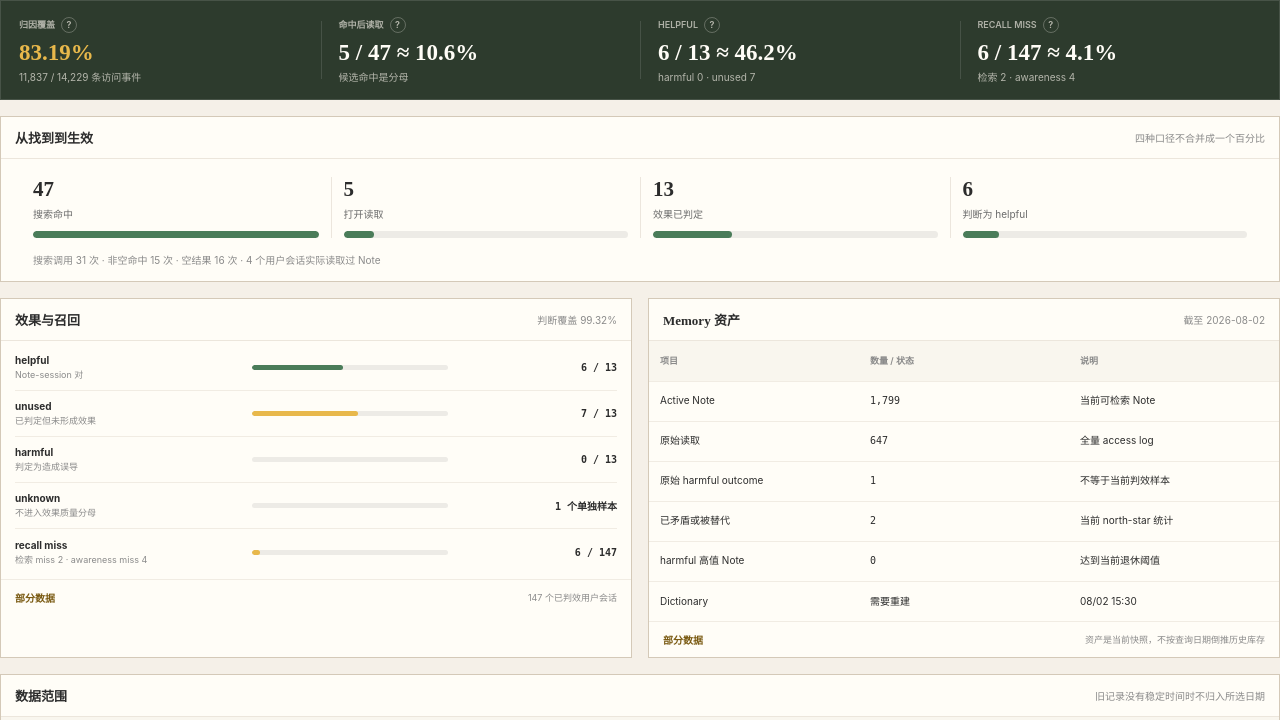
Test: renders the four facts, funnel, effects, assets and sources
Expected: the text "归因覆盖" is shown, 19,18 -> 55,31
Expected: the text "5 / 47 ≈ 10.6%" is shown, 338,40 -> 478,64
Step 1. Click the button named "解释命中后读取" → (398, 24), box 390,16 -> 406,32
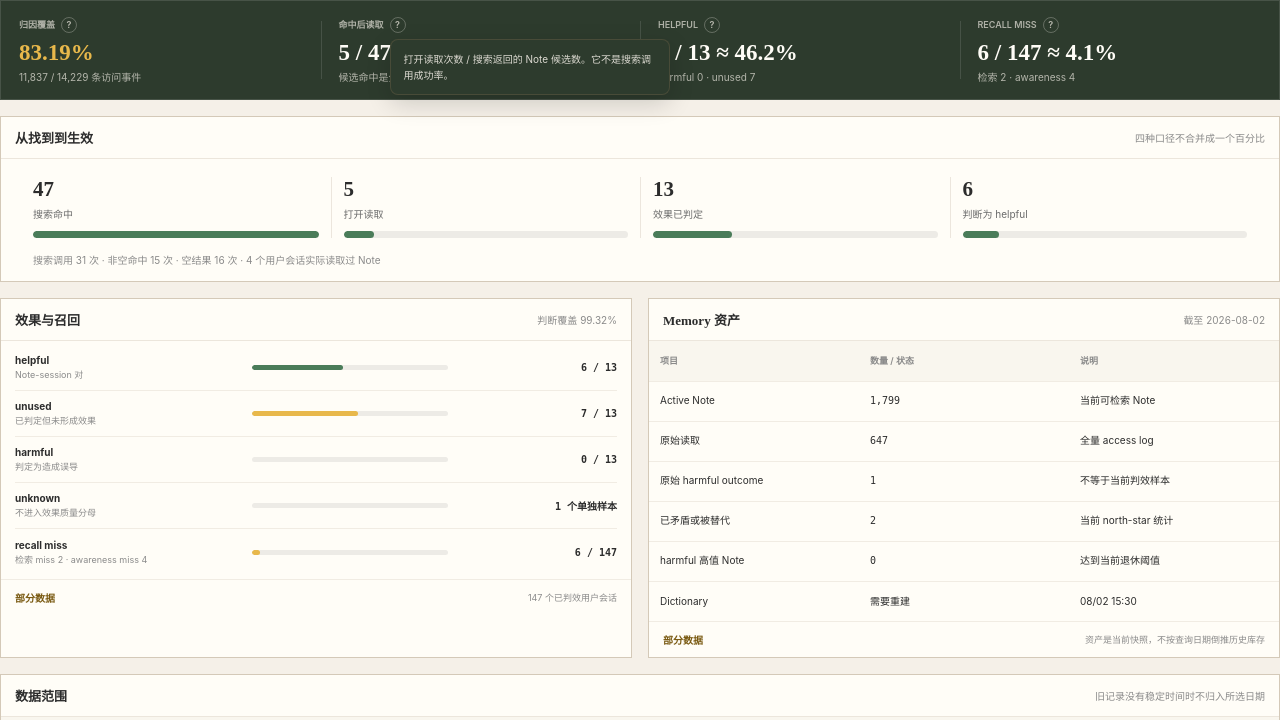
Now the tooltip named "命中后读取口径" is shown, box 390,38 -> 670,94
